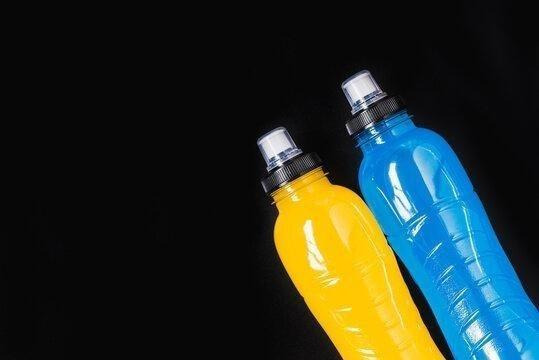gym bottle: (341, 69, 538, 358), (256, 126, 452, 359)
